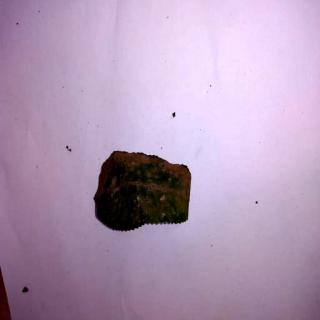Anthracnose: (99, 151, 192, 234)
